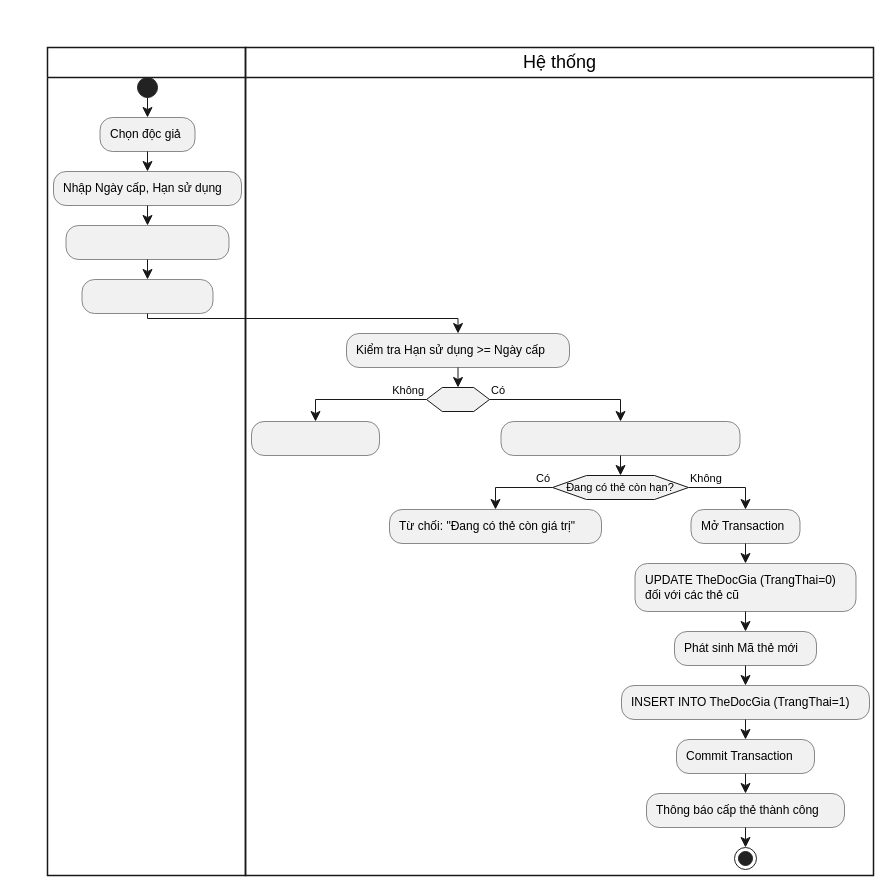
Some shapes in this 891 by 893 pixel diagram are drawn without their labels. Here are the shapes that lost their labels. From the top down, the box of each, then its label:
(65, 225, 229, 259): Đánh dấu Đã đóng lệ phí
(81, 279, 213, 313): Nhấn nút "Cấp thẻ"
(426, 386, 490, 412): Hợp lệ?
(251, 421, 379, 455): Báo lỗi ngày tháng
(500, 421, 740, 455): Truy vấn kiểm tra thẻ đang hoạt động
(46, 46, 246, 876): Thủ thư
